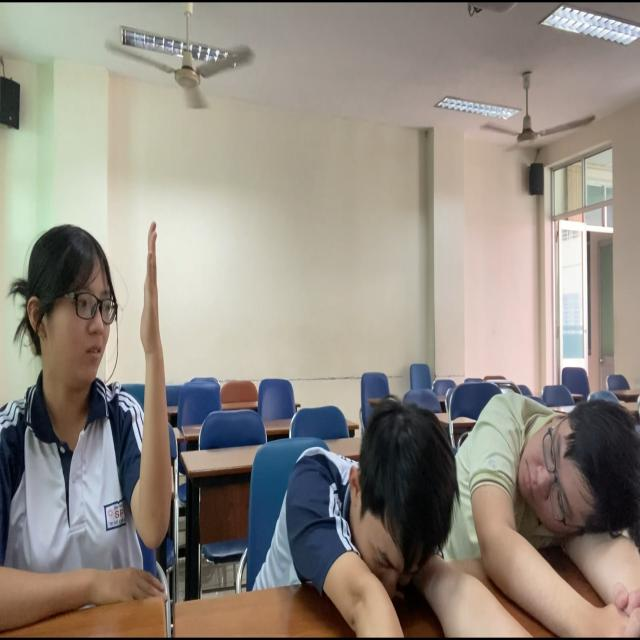raise_hand: (1, 215, 173, 640)
sleep: (258, 396, 460, 640)
